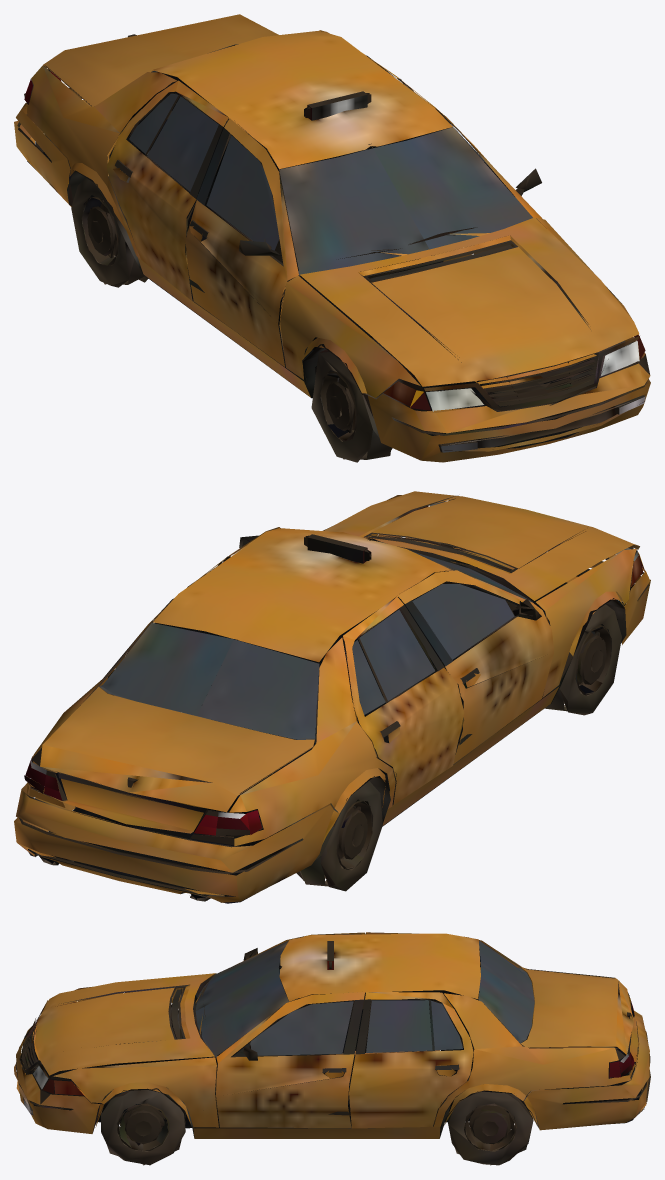
File: pack-taxi-L2.glb
3 views of the same model, one above another, from view 1: azimuth 30°, elevation 25°; view 2: azimuth 150°, elevation 25°; view 3: azimuth 270°, elevation 25° (orthographic). The views are drawn at different scales.
Parts seen in each view (by area): view 1: body; view 2: body; view 3: body.
Part boxes in pixels (x1=…): body: x1=14, y1=14, x2=650, y2=462; body: x1=14, y1=491, x2=650, y2=903; body: x1=14, y1=932, x2=650, y2=1165.
Bounding box in the file's own units: 2 × 1.52 × 5.1.
1 material, 1 textured.
